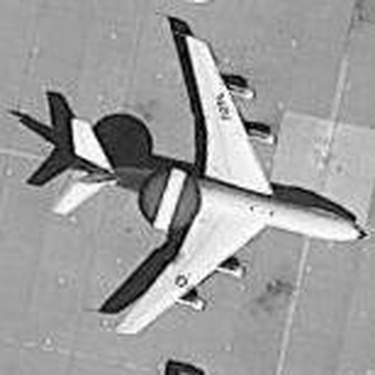airplane: (13, 18, 370, 351)
